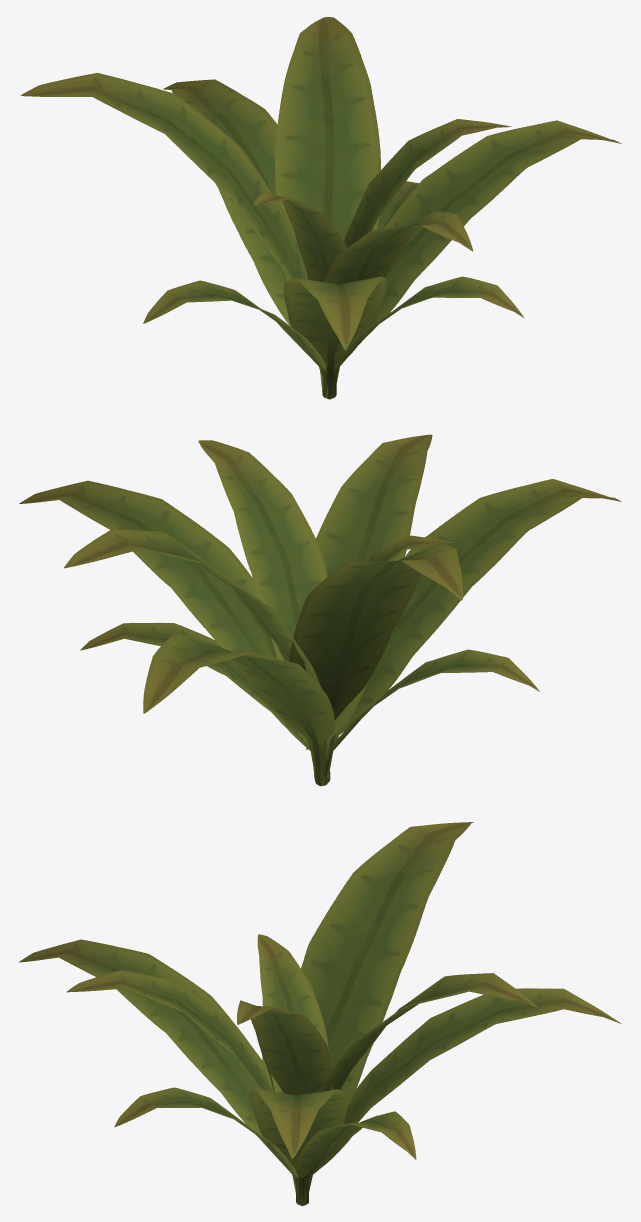
File: Plant 02.fbx
The picture shows the model from 3 angles, top to bottom: view 1: azimuth 30°, elevation 25°; view 2: azimuth 150°, elevation 25°; view 3: azimuth 270°, elevation 25°; orthographic projection. The views are drawn at different scales.
Parts seen in each view (by area): view 1: plant_b_LOD0; view 2: plant_b_LOD0; view 3: plant_b_LOD0.
Boxes of the visible parts, x1=… form: plant_b_LOD0: x1=20, y1=17, x2=621, y2=399; plant_b_LOD0: x1=19, y1=434, x2=621, y2=786; plant_b_LOD0: x1=18, y1=822, x2=621, y2=1206.
Size of what is drawn, in the model's own units: 141 by 79.81 by 150.
